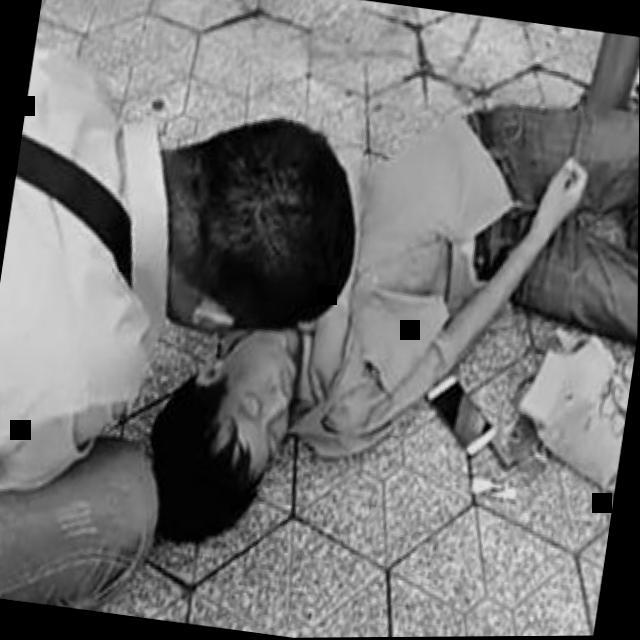Fall-Detected: (135, 7, 640, 639)
